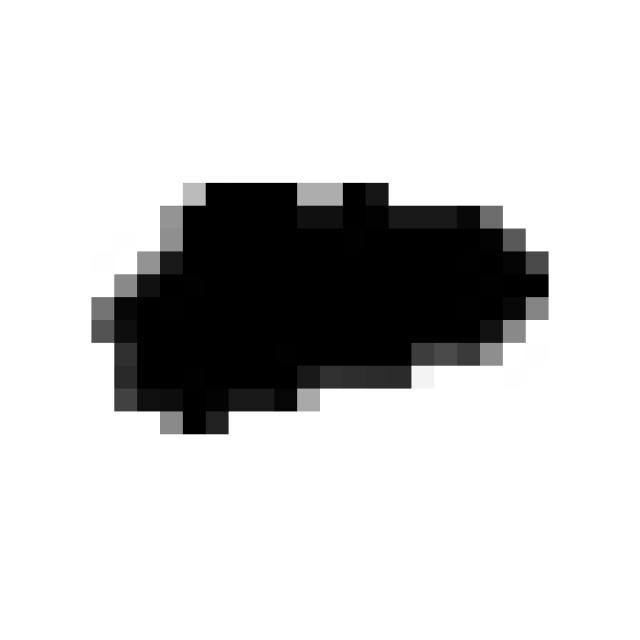0 -zero-: (78, 162, 569, 470)
